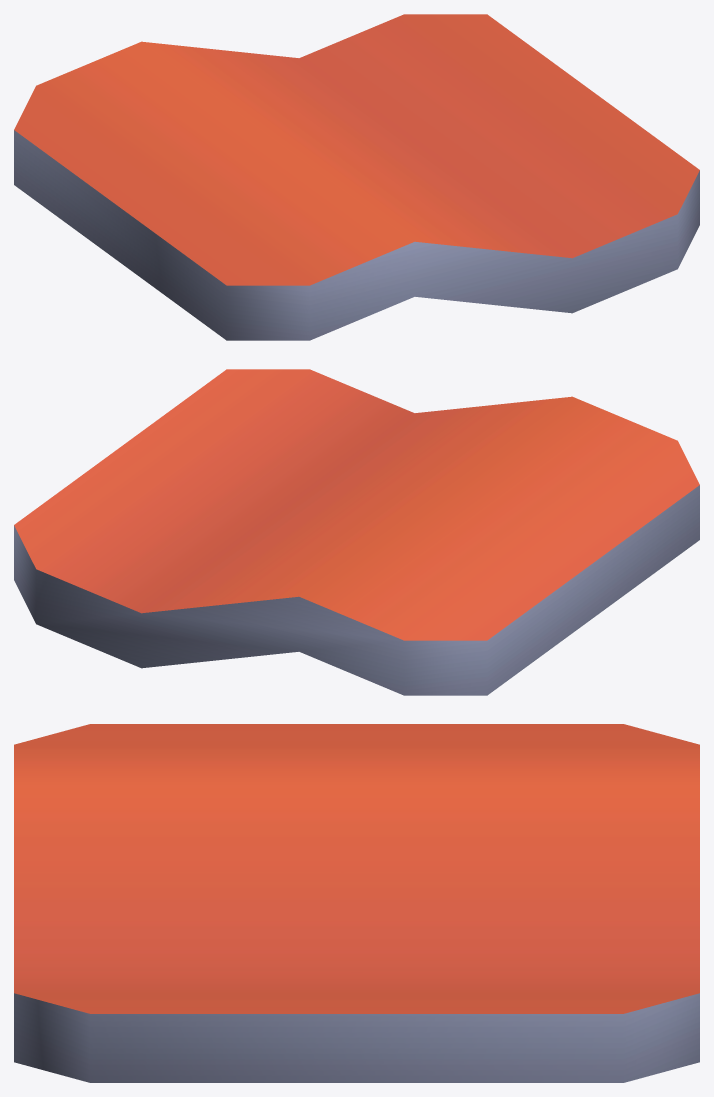
Rendered from debris-plate-b.glb.
3 renders of one model, top to bottom at view 1: azimuth 30°, elevation 25°; view 2: azimuth 150°, elevation 25°; view 3: azimuth 270°, elevation 25°, orthographic. The views are drawn at different scales.
Visible parts, largest first — view 1: debris-plate-b; view 2: debris-plate-b; view 3: debris-plate-b.
Boxes of the visible parts, x1,y1,x2,y2 form: debris-plate-b: (14,14,699,340); debris-plate-b: (14,369,699,695); debris-plate-b: (14,724,699,1082).
Size of the model in its own units: 0.9 by 0.2 by 0.9.
1 material, 1 textured.
